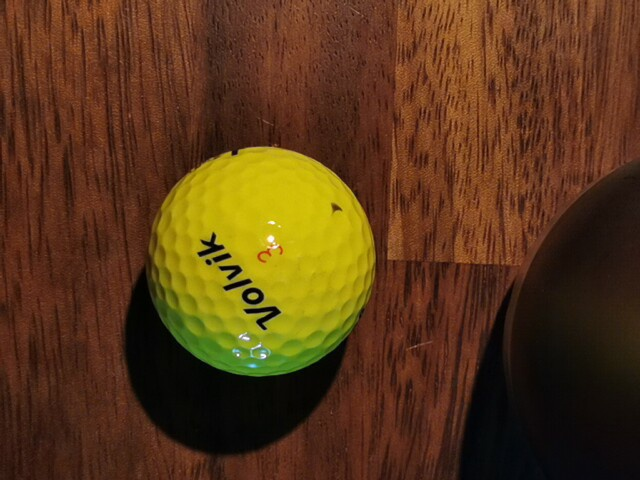Ball: (145, 146, 377, 377)
Volvik: (197, 232, 282, 331)
